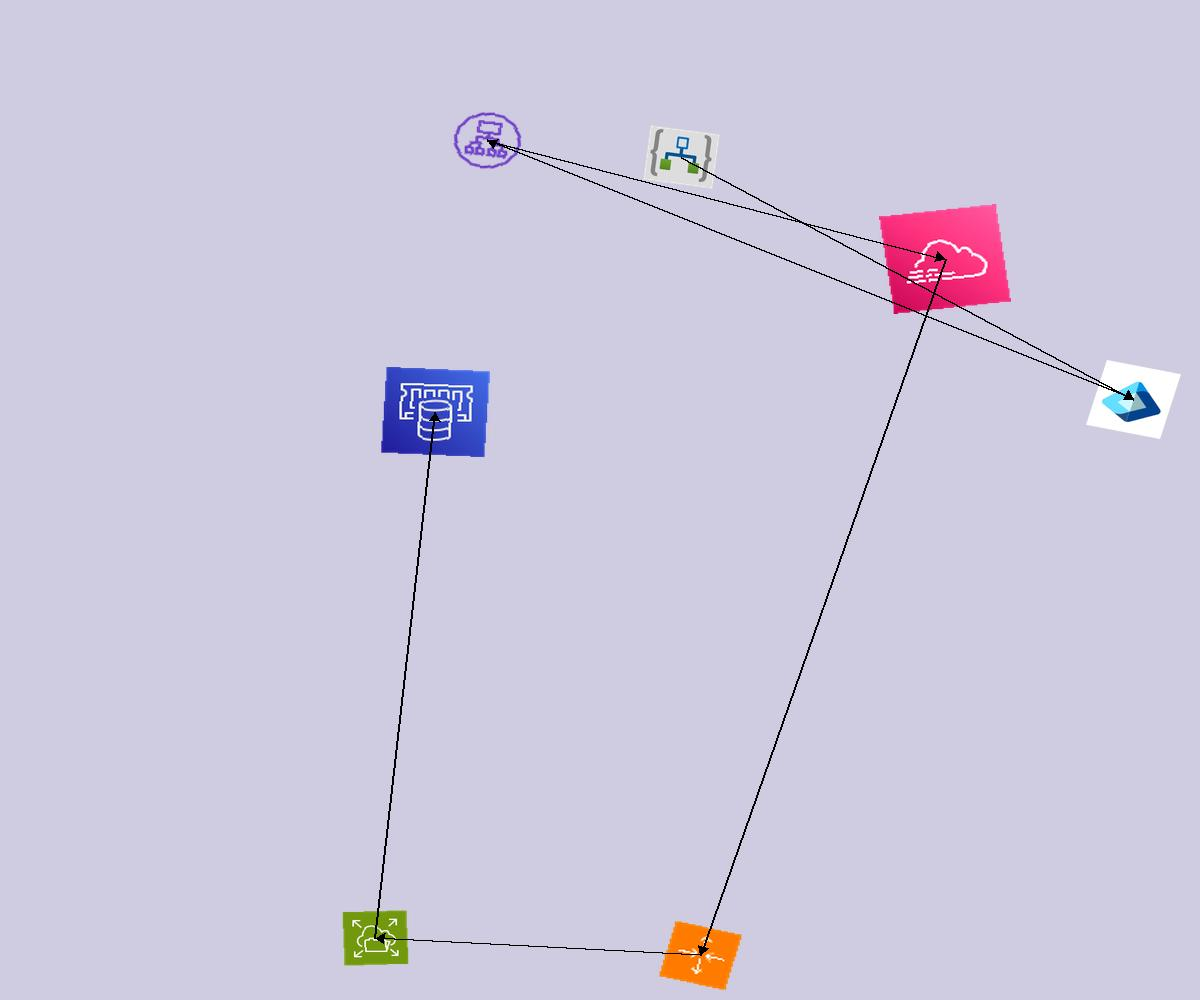AWS-CloudTrail: (879, 204, 1011, 314)
AWS-EFS: (342, 910, 409, 966)
AWS-ElastiCache: (380, 366, 491, 458)
AWS-Res_Elastic-Load-Balancing_Application-Load-Balancer: (445, 105, 530, 176)
AWS-Scaling-group: (658, 920, 743, 991)
Azure_integration-204-Logic-Apps: (643, 125, 720, 189)
Azure_microsoft_entra: (1086, 360, 1181, 439)
